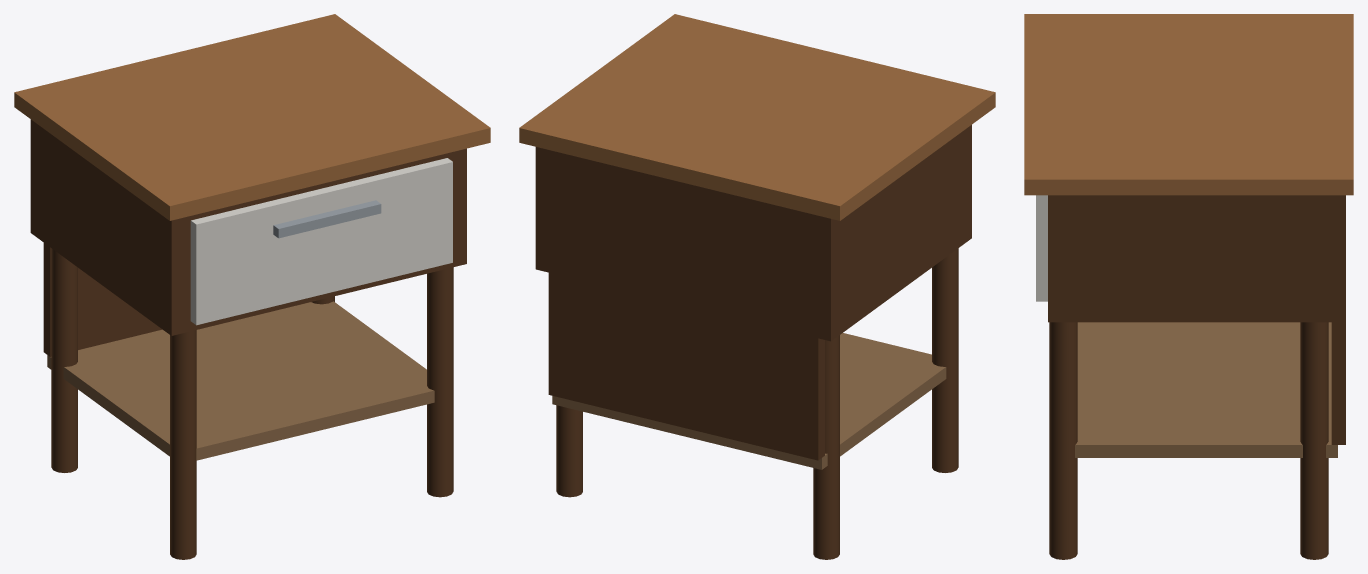
Rendered from nightstand.glb.
The picture shows the model from 3 angles, left to right: view 1: azimuth 30°, elevation 25°; view 2: azimuth 150°, elevation 25°; view 3: azimuth 270°, elevation 25°; orthographic projection. The views are drawn at different scales.
Visible parts, largest first — view 1: material-3-top, material-5-shelf, material-1-body, material-2-drawer, material-0-leg, material-4-metal; view 2: material-1-body, material-3-top, material-0-leg, material-5-shelf; view 3: material-3-top, material-1-body, material-5-shelf, material-0-leg, material-2-drawer.
Part boxes in pixels (x1,y1,x2,y2): material-3-top: (14, 14, 490, 220); material-5-shelf: (47, 301, 434, 460); material-1-body: (30, 119, 466, 356); material-2-drawer: (190, 158, 452, 325); material-0-leg: (51, 248, 453, 559); material-4-metal: (273, 200, 381, 238); material-1-body: (535, 125, 971, 460); material-3-top: (519, 14, 995, 220); material-0-leg: (556, 248, 958, 559); material-5-shelf: (552, 333, 946, 469); material-3-top: (1024, 14, 1353, 195); material-1-body: (1048, 195, 1345, 444); material-5-shelf: (1075, 322, 1337, 457); material-0-leg: (1049, 322, 1328, 559); material-2-drawer: (1036, 195, 1047, 301).
Bounding box in the file's own units: 0.5 × 0.55 × 0.42.
